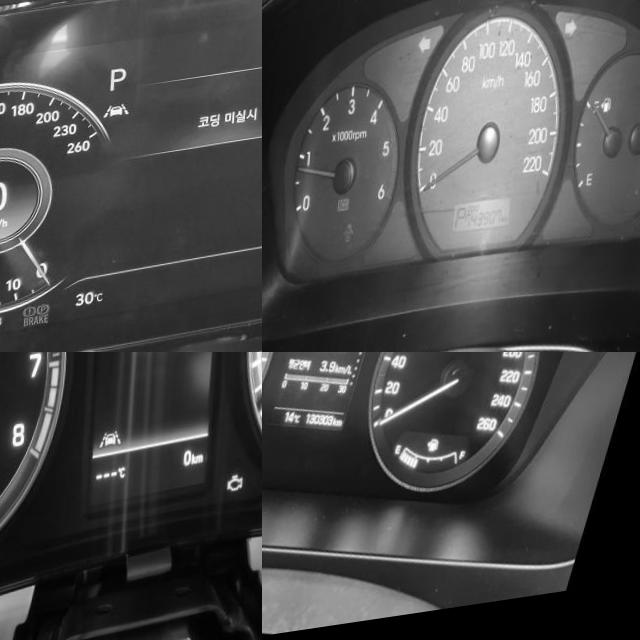Doors: (348, 227, 358, 246)
LaneCenteringOff: (104, 434, 128, 458), (106, 107, 134, 125)
